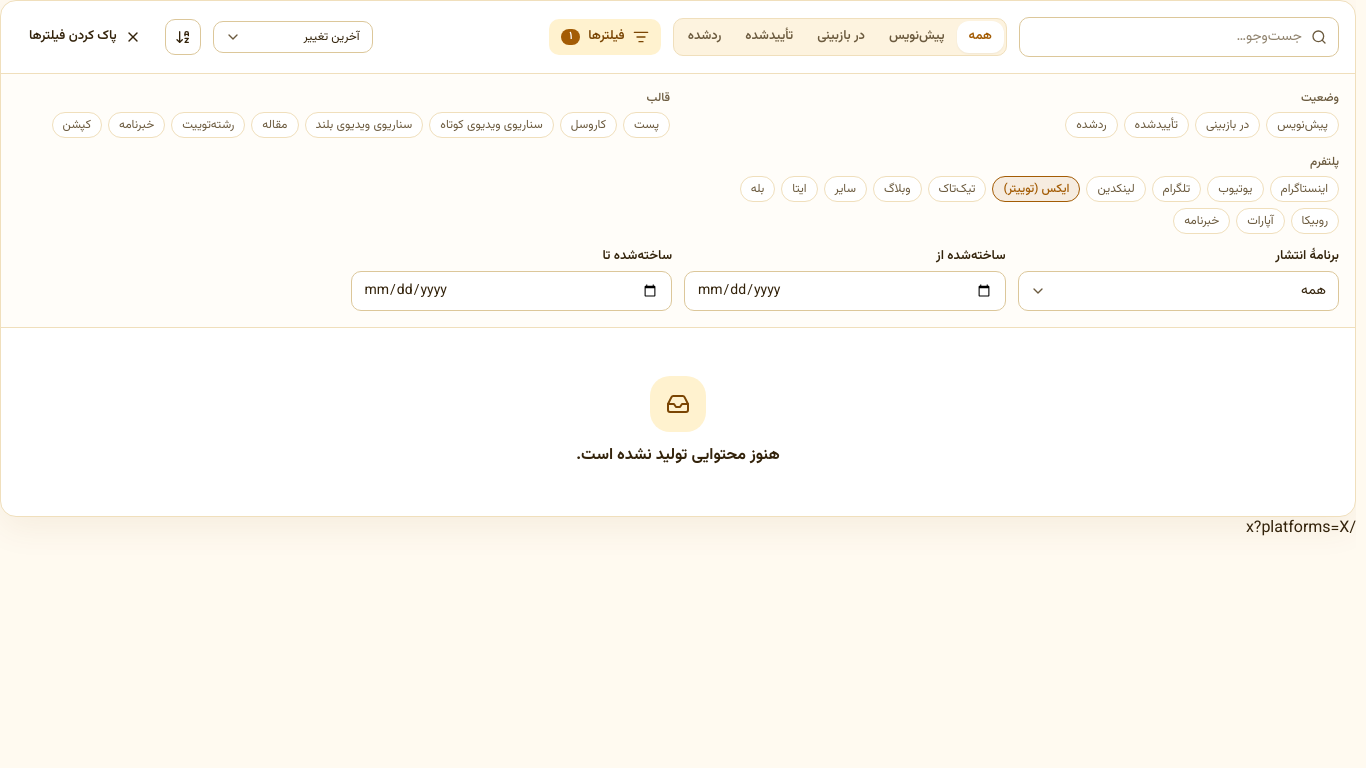
ContentsTable filters › widens with a second value of the same filter, and narrows again when it is unticked
Click the button "تلگرام" at (1176, 189), box left=1152, top=176, right=1201, bottom=202
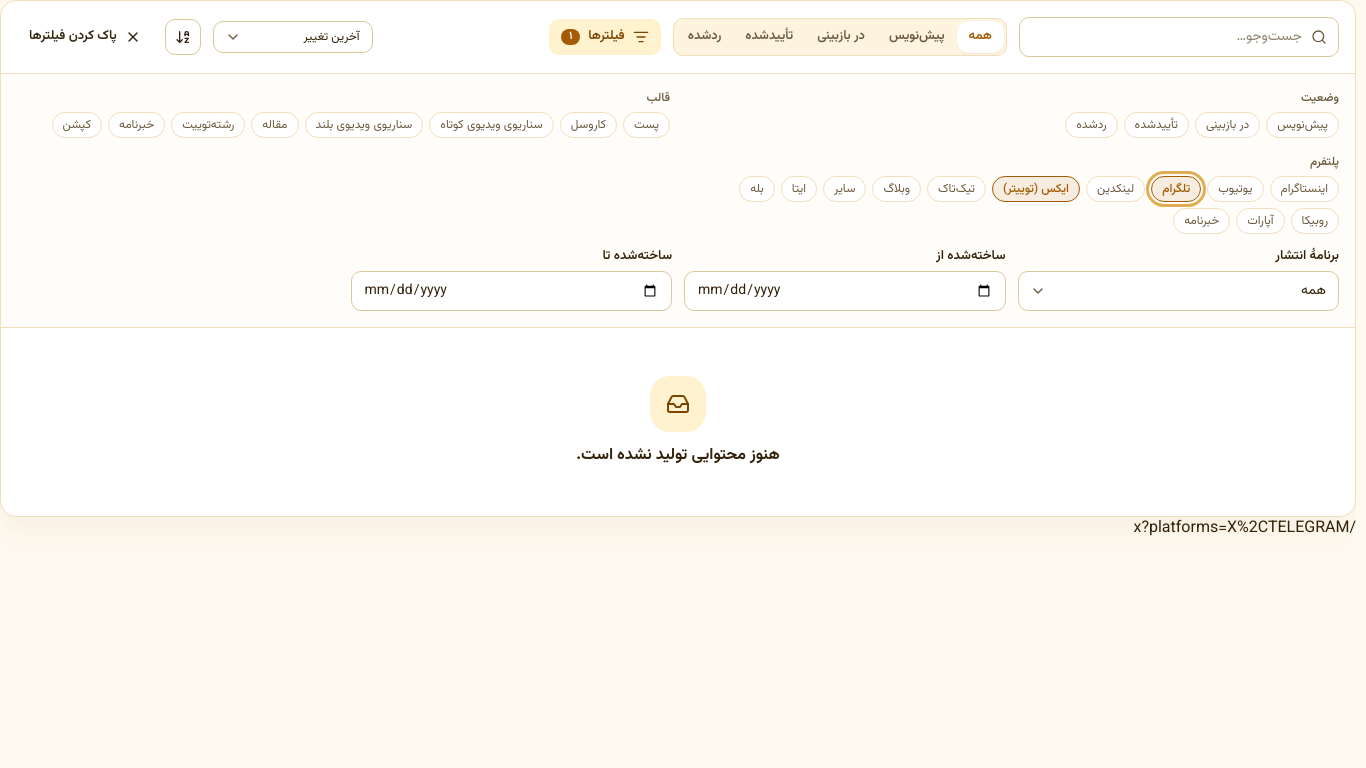
Result: the text with test id "where" reads "/x?platforms=X%2CTELEGRAM" at left=1134, top=516, right=1356, bottom=541
Click the button "ایکس (توییتر)" at (1036, 189), box left=992, top=176, right=1080, bottom=202
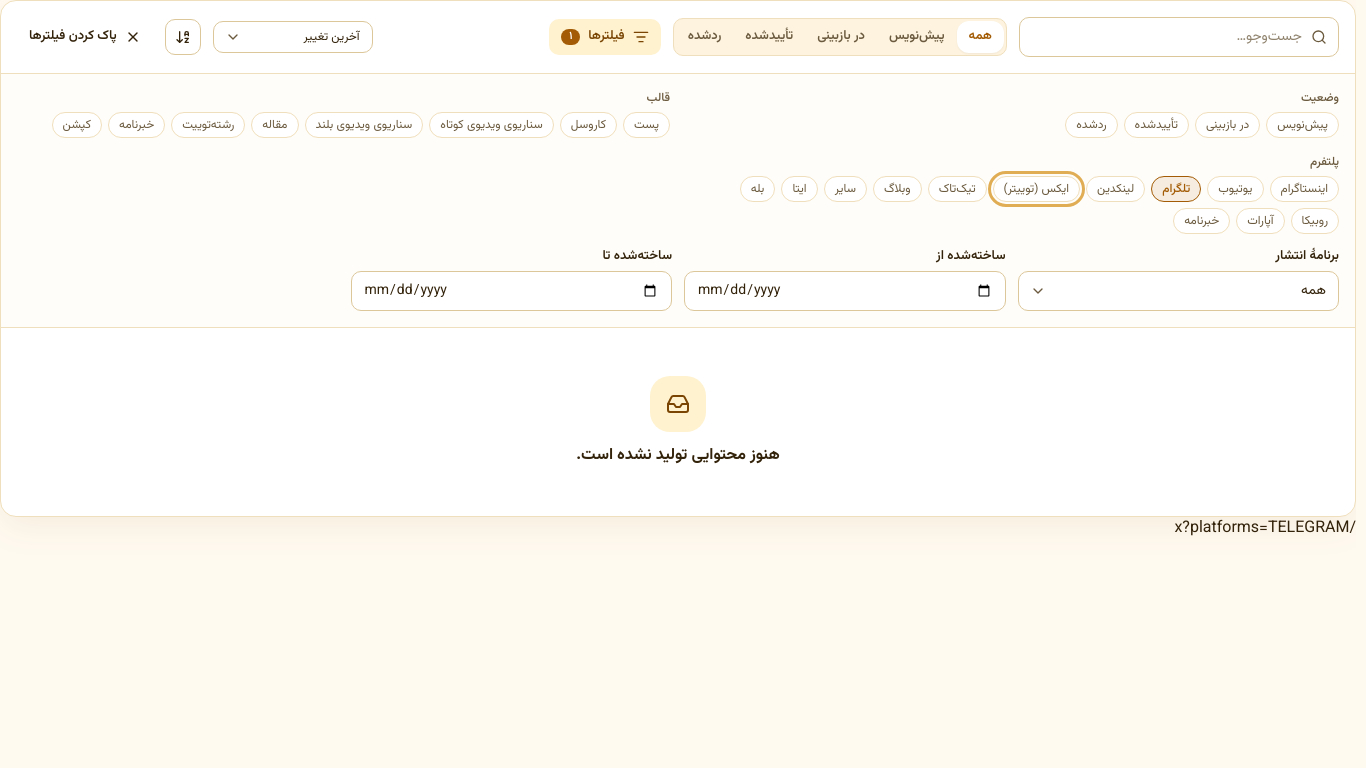
Result: the text with test id "where" reads "/x?platforms=TELEGRAM" at left=1174, top=516, right=1356, bottom=541
